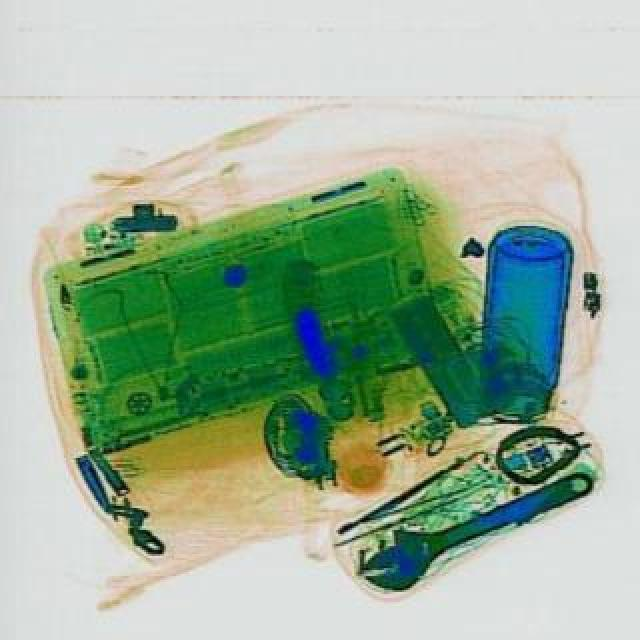scissors: (344, 448, 600, 602)
